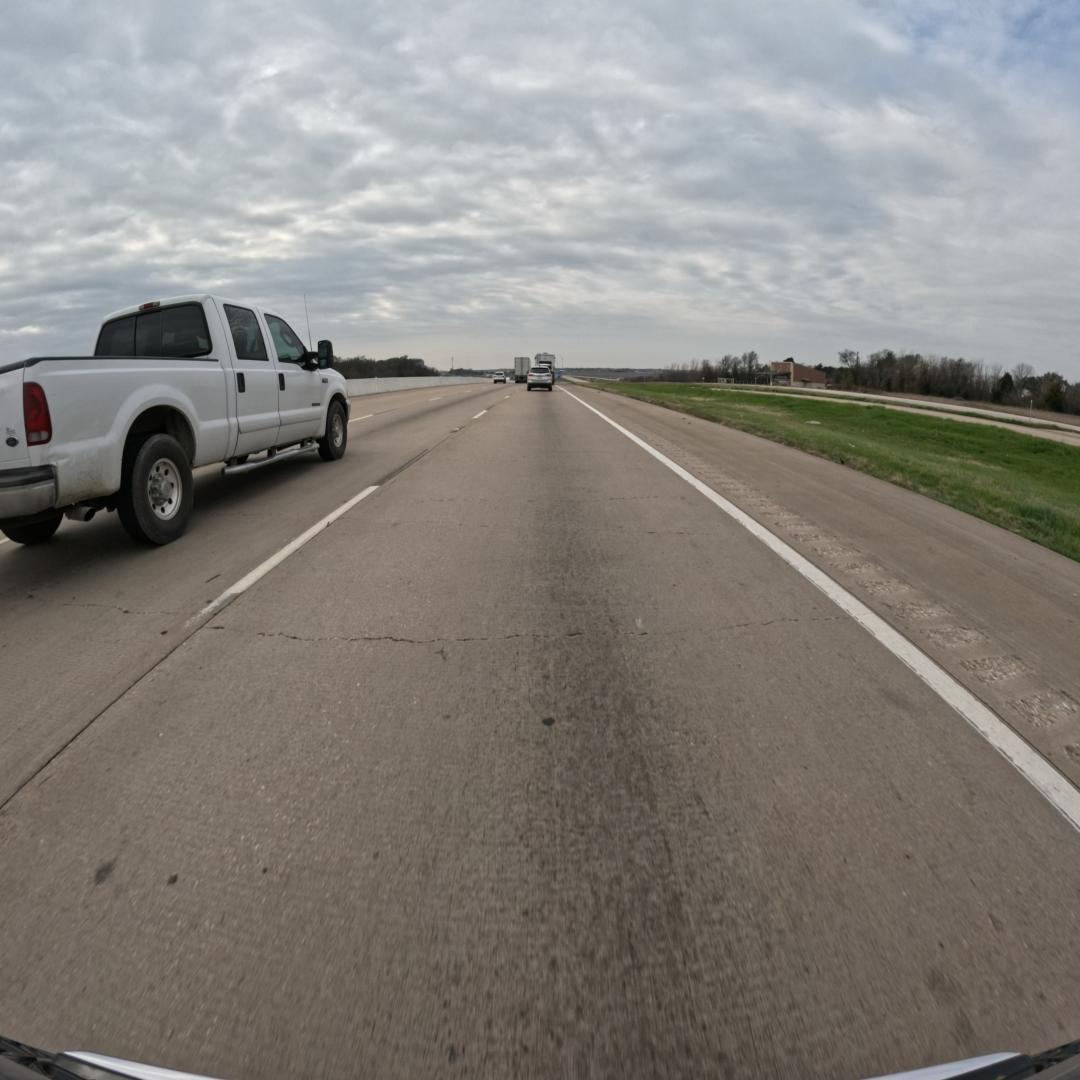lane0: (0, 390, 1080, 1077)
lane1: (0, 385, 521, 806)
